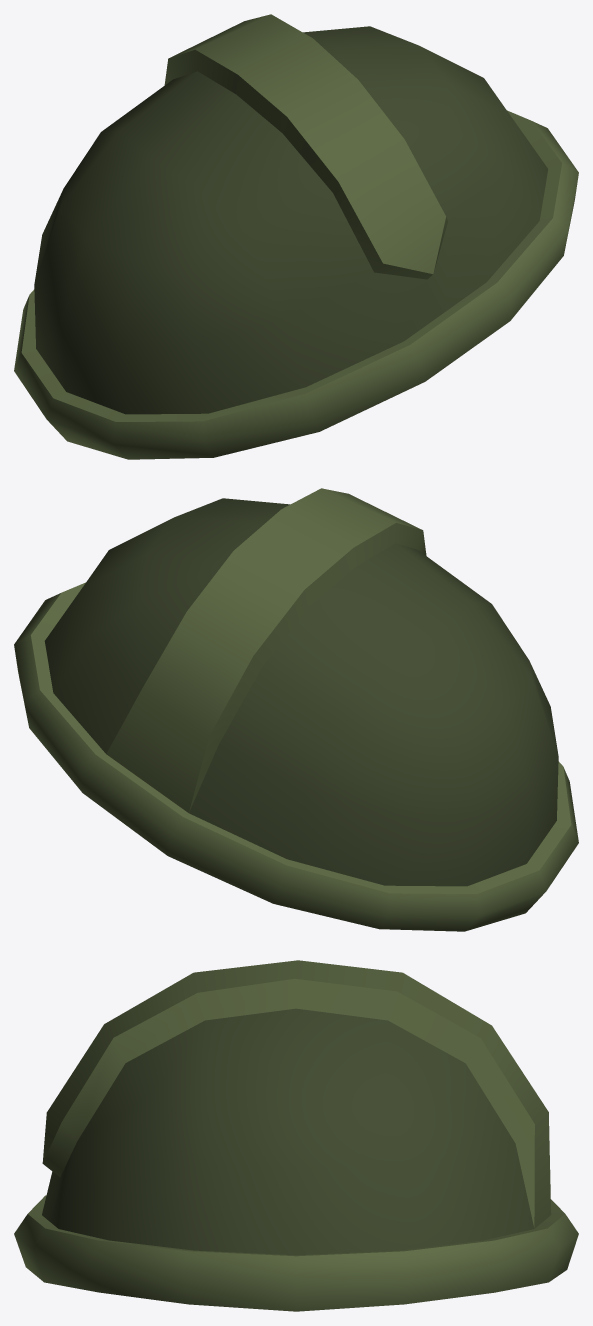
File: militaryShoulderR.fbx
3 views of the same model, one above another, from view 1: azimuth 30°, elevation 25°; view 2: azimuth 150°, elevation 25°; view 3: azimuth 270°, elevation 25° (orthographic). The views are drawn at different scales.
Visible parts, largest first — view 1: militaryShoulderR; view 2: militaryShoulderR; view 3: militaryShoulderR.
Boxes of the visible parts, x1,y1,x2,y2 form: militaryShoulderR: [14, 14, 578, 459]; militaryShoulderR: [14, 488, 578, 931]; militaryShoulderR: [14, 960, 578, 1311].
Bounding box in the file's own units: 45.99 × 30.15 × 39.38.
